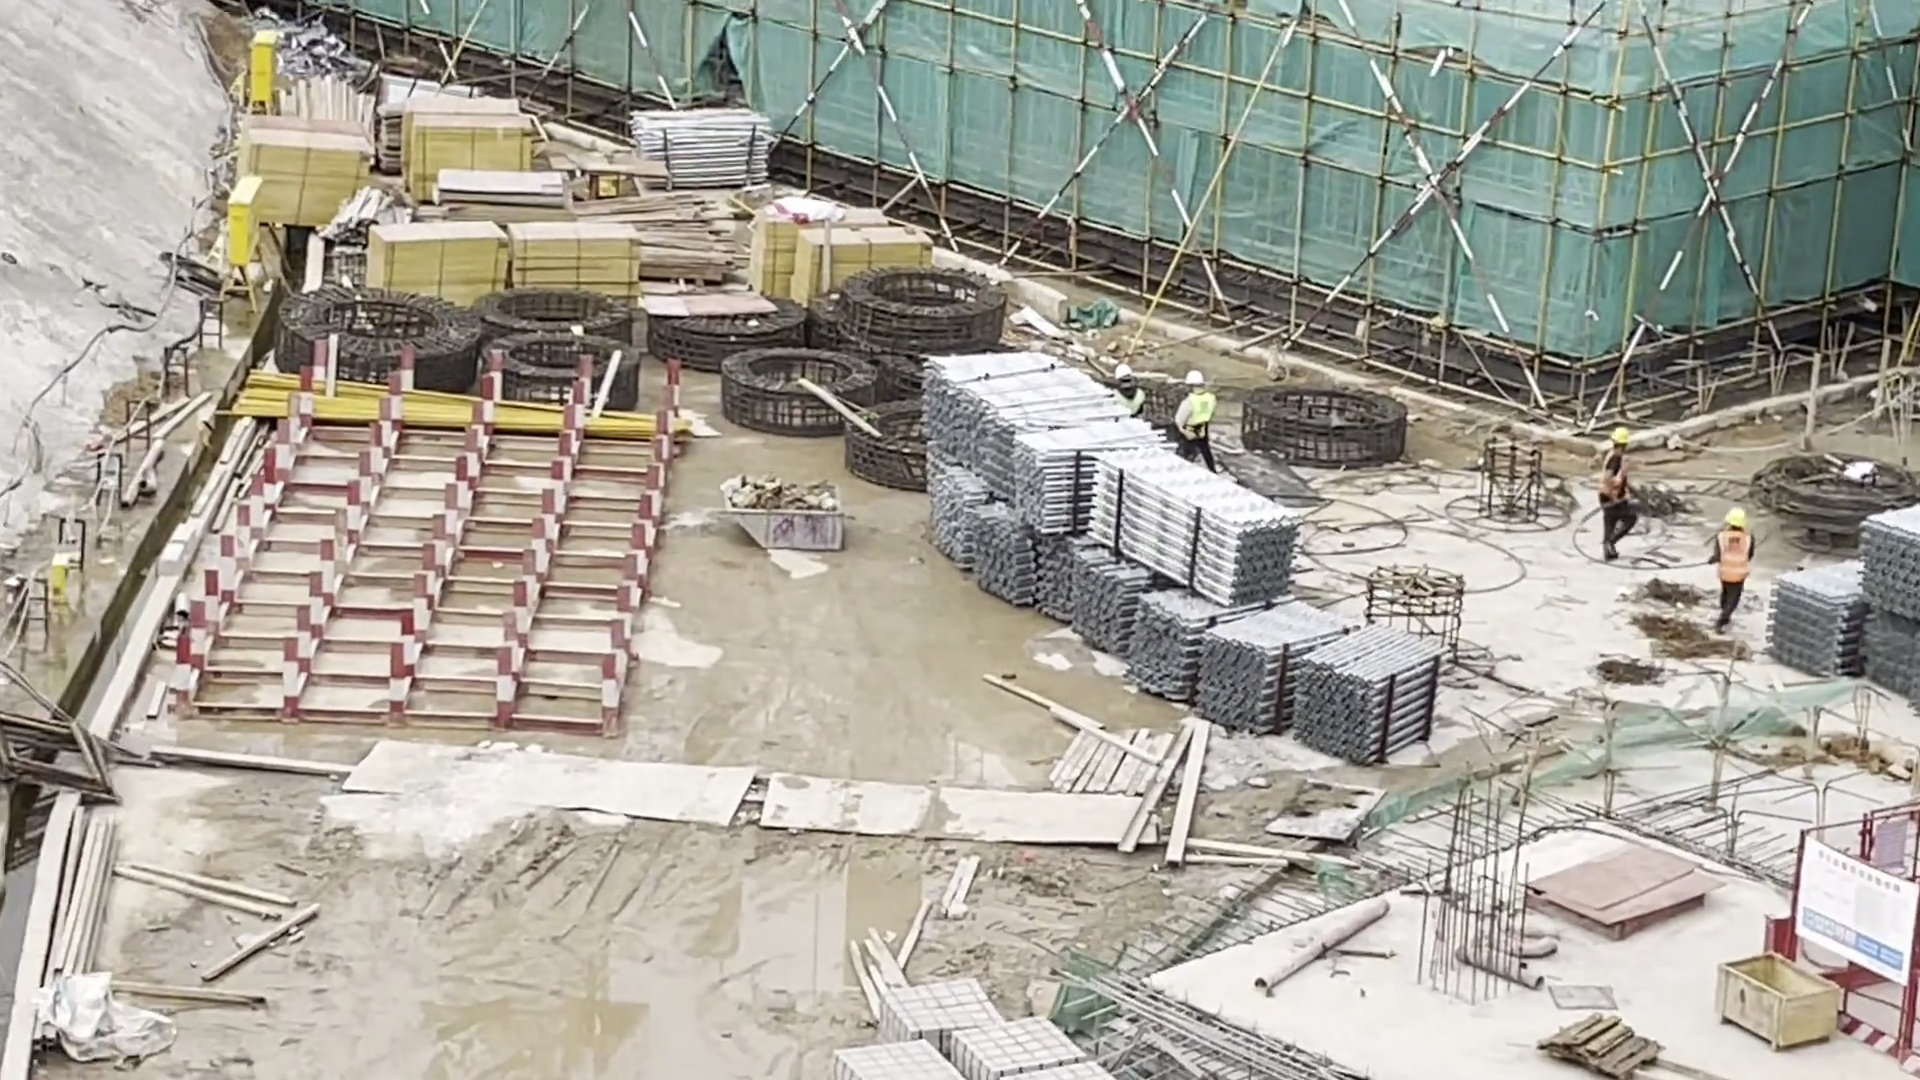brick: (810, 972, 1111, 1080)
ebox: (226, 173, 262, 313), (250, 30, 277, 115)
helmet: (1722, 508, 1746, 527), (1183, 370, 1201, 386), (1114, 364, 1132, 378), (1612, 427, 1626, 445)
hopper: (1718, 947, 1837, 1053), (724, 475, 844, 551)
person: (1712, 506, 1754, 638), (1171, 369, 1225, 471), (1605, 431, 1638, 566), (1108, 365, 1146, 414)
scaffold: (918, 348, 1448, 764), (1766, 496, 1920, 694), (633, 101, 769, 187)
slogan: (1791, 834, 1911, 983)
vest: (1718, 528, 1752, 585), (1604, 449, 1625, 497), (1183, 394, 1214, 424), (1114, 389, 1146, 412)
